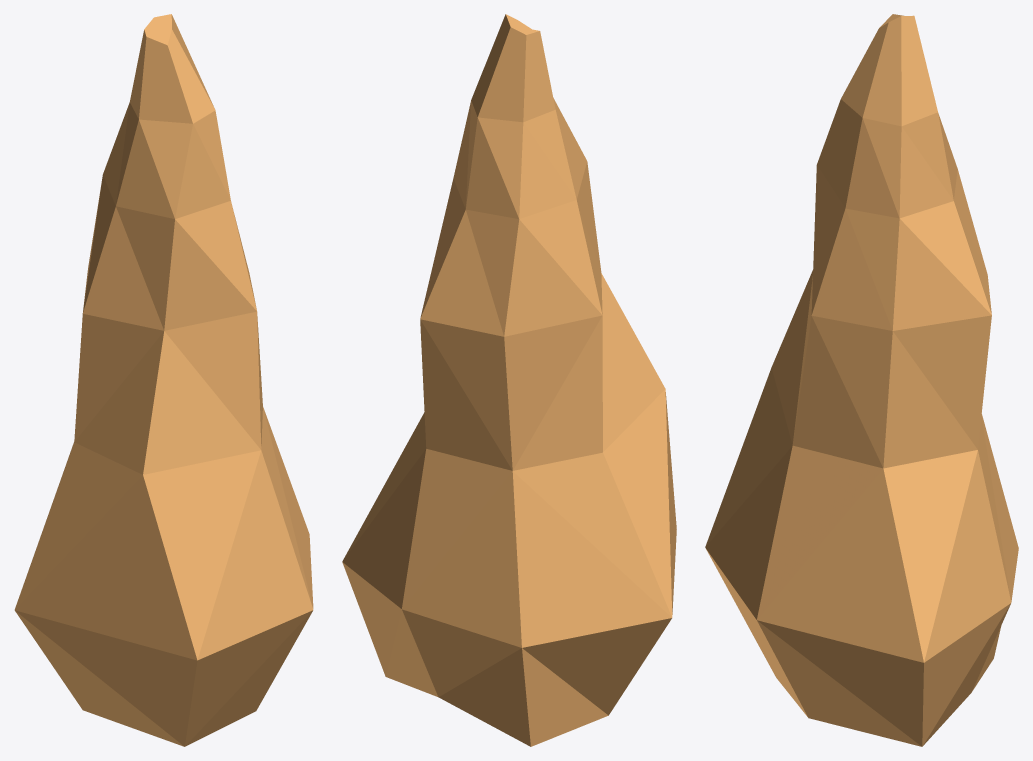
Rendered from spike_2.fbx.
3 renders of one model, left to right at view 1: azimuth 30°, elevation 25°; view 2: azimuth 150°, elevation 25°; view 3: azimuth 270°, elevation 25°, orthographic. The views are drawn at different scales.
Visible parts, largest first — view 1: Type_25; view 2: Type_25; view 3: Type_25.
Boxes of the visible parts, <box> form: Type_25: <box>14,14,313,746</box>; Type_25: <box>342,14,676,746</box>; Type_25: <box>705,14,1018,746</box>.
Bounding box in the file's own units: 1.97 × 4.11 × 1.71.
